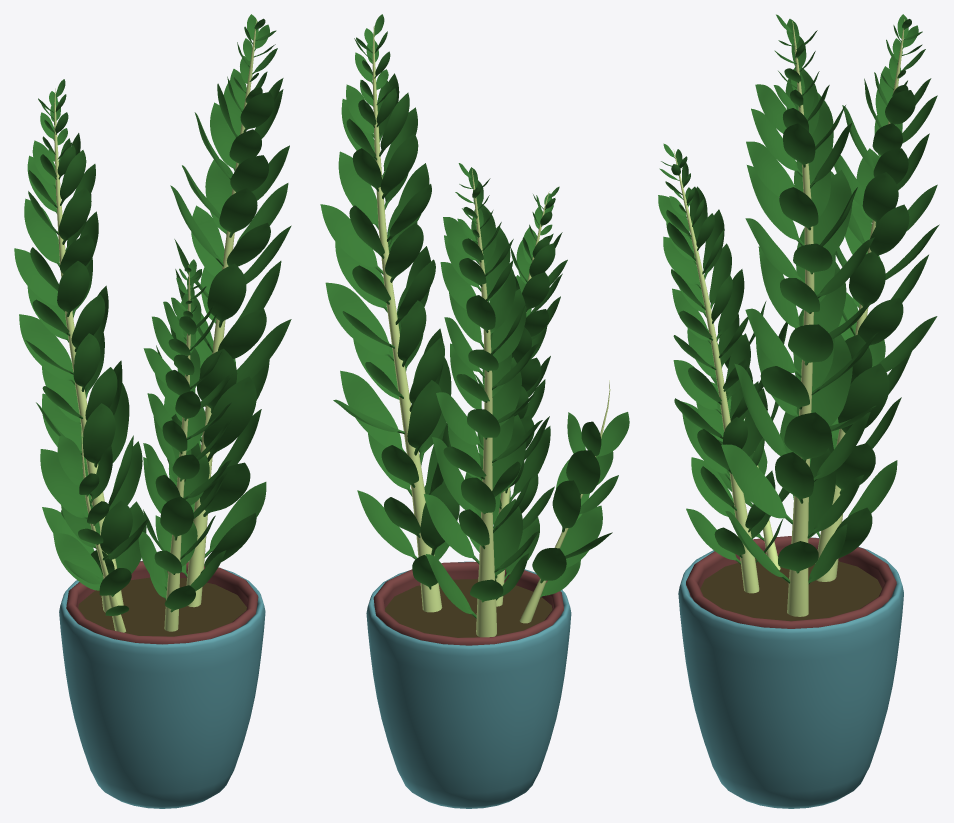
The model's file is plantagrande.fbx.
The picture shows the model from 3 angles, left to right: view 1: azimuth 30°, elevation 25°; view 2: azimuth 150°, elevation 25°; view 3: azimuth 270°, elevation 25°; orthographic projection. The views are drawn at different scales.
Visible parts, largest first — view 1: Circle.007; view 2: Circle.007; view 3: Circle.007.
Boxes of the visible parts, bbox=[...] form: Circle.007: bbox=[14, 14, 291, 808]; Circle.007: bbox=[320, 14, 629, 808]; Circle.007: bbox=[658, 14, 939, 808].
Size of the model in its own units: 64.28 by 174 by 54.32.
